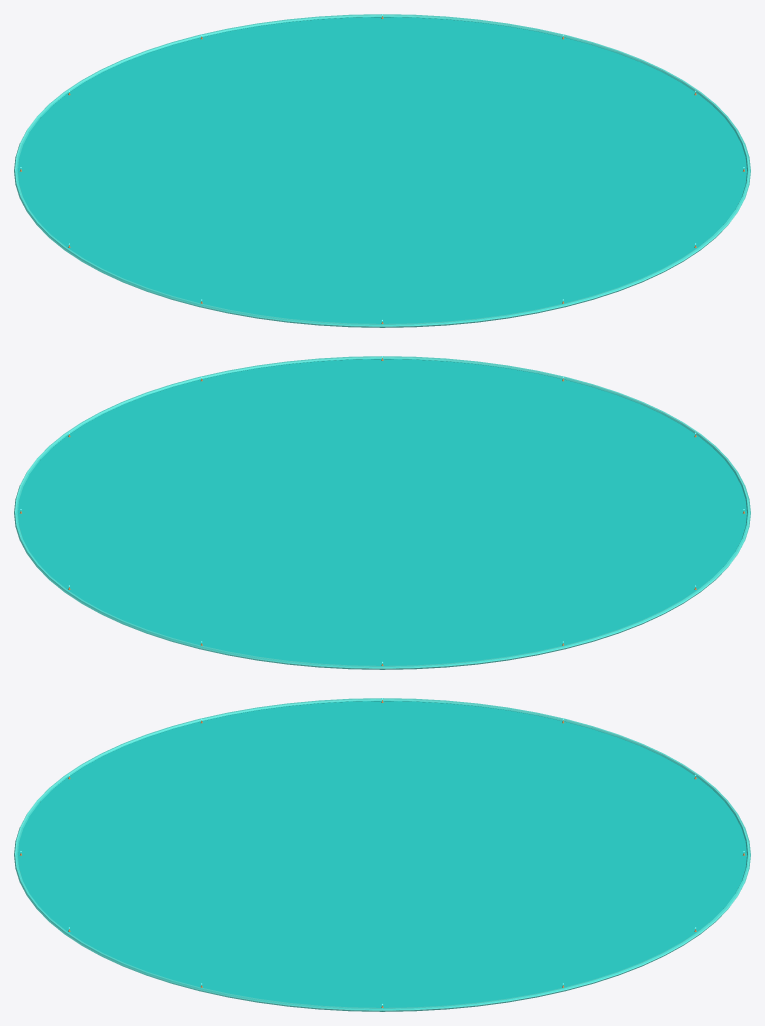
Rendered from dive_marker.glb.
3 views of the same model, one above another, from view 1: azimuth 30°, elevation 25°; view 2: azimuth 150°, elevation 25°; view 3: azimuth 270°, elevation 25° (orthographic).
Parts seen in each view (by area): view 1: dive_marker_part_0, dive_marker_part_1; view 2: dive_marker_part_0, dive_marker_part_1; view 3: dive_marker_part_0, dive_marker_part_1.
Part boxes in pixels (x1,y1,x2,y2): dive_marker_part_0: (16,16,748,325); dive_marker_part_1: (14,14,750,327); dive_marker_part_0: (16,358,748,667); dive_marker_part_1: (14,356,750,669); dive_marker_part_0: (16,700,748,1009); dive_marker_part_1: (14,698,750,1011).
Size of the model in its own units: 442 by 3.76 by 442.
